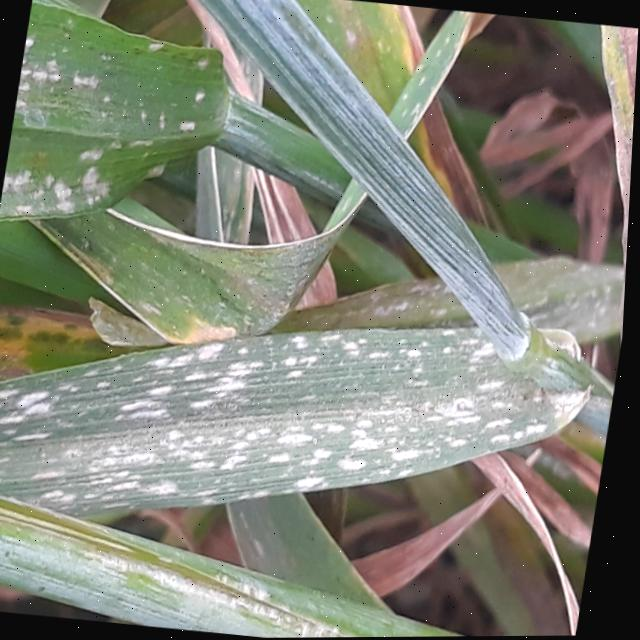powder_mildew: (0, 271, 628, 640), (0, 0, 291, 304), (244, 0, 510, 327), (546, 24, 639, 397)
